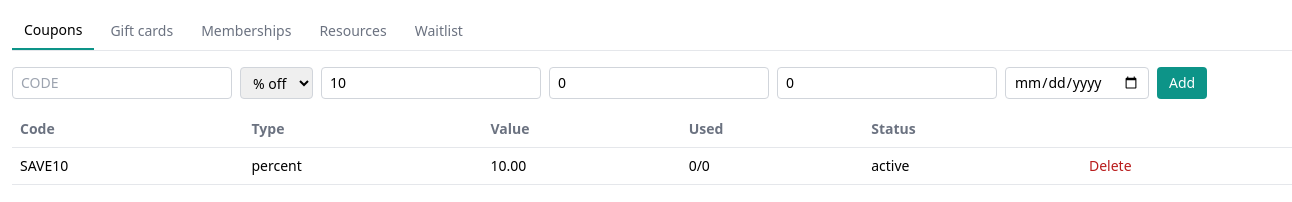
Test: AdvancedPage › shows tabs and the coupons list, and switches tab
Expected: the button "Coupons" is shown, 12,12 -> 94,50
Expected: the button "Gift cards" is shown, 98,12 -> 185,50
Click the button "Resources" at (353, 31), box 307,12 -> 399,50
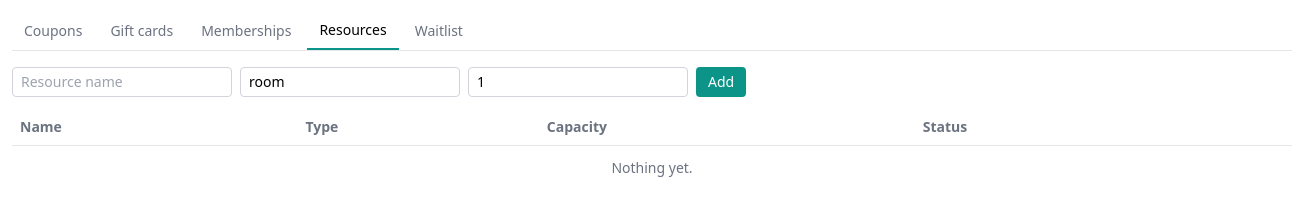
Now the field labelled "Resource name" is shown, box 12,67 -> 232,97
